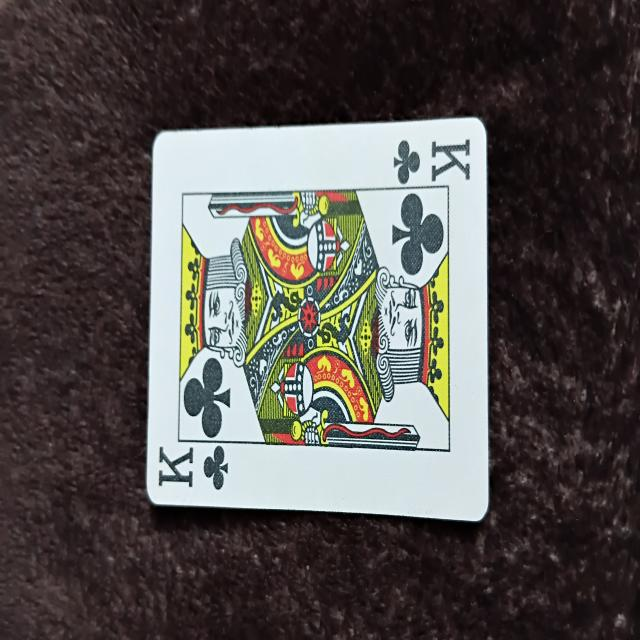KC: (147, 116, 487, 521)
